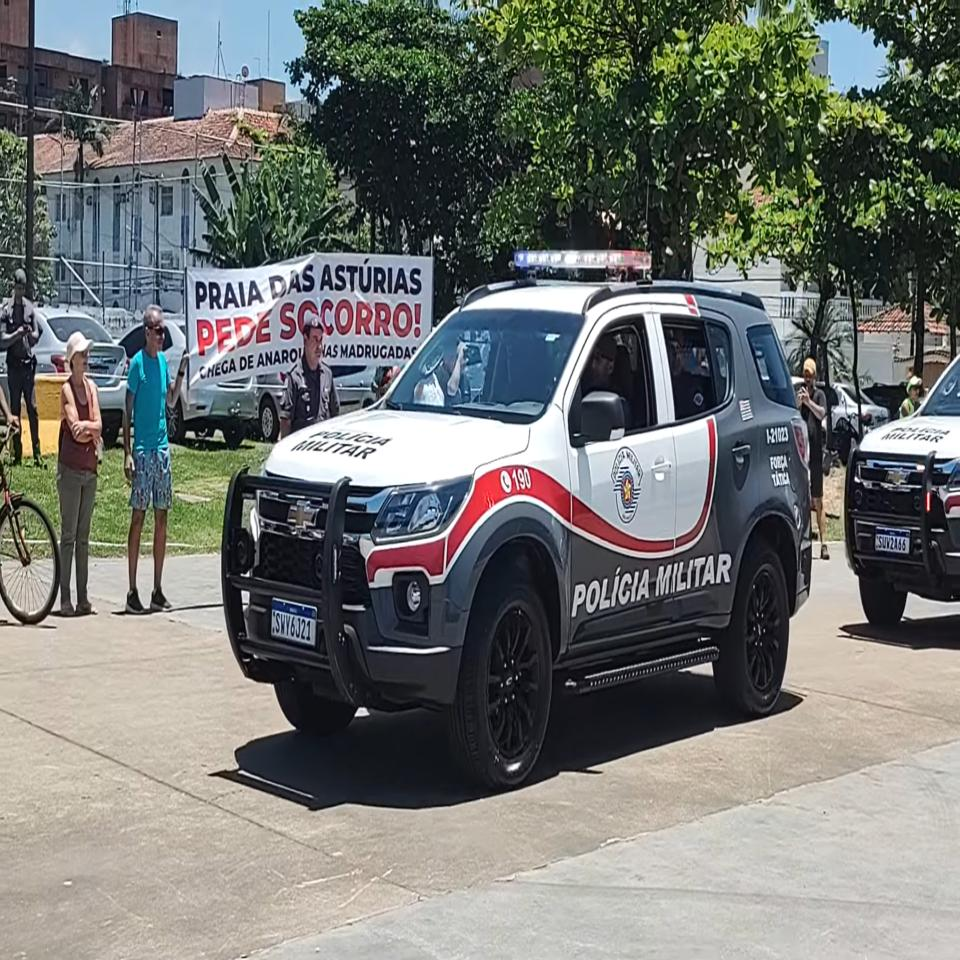viatura: (218, 240, 818, 793)
